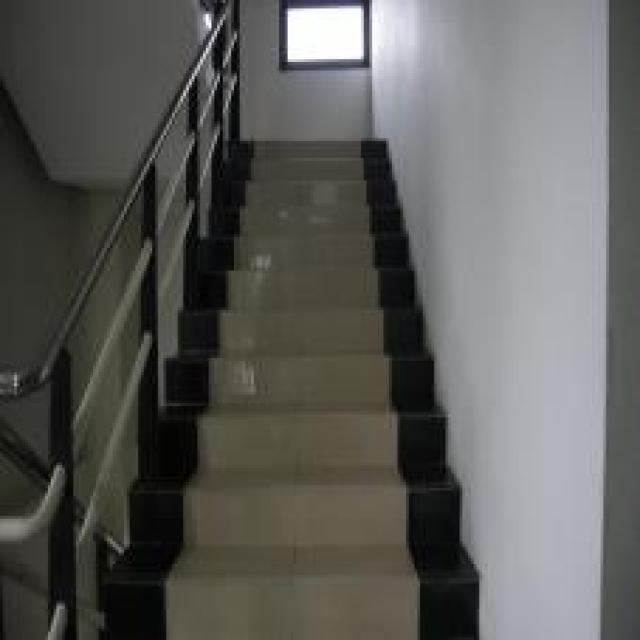upstair: (234, 147, 434, 637)
